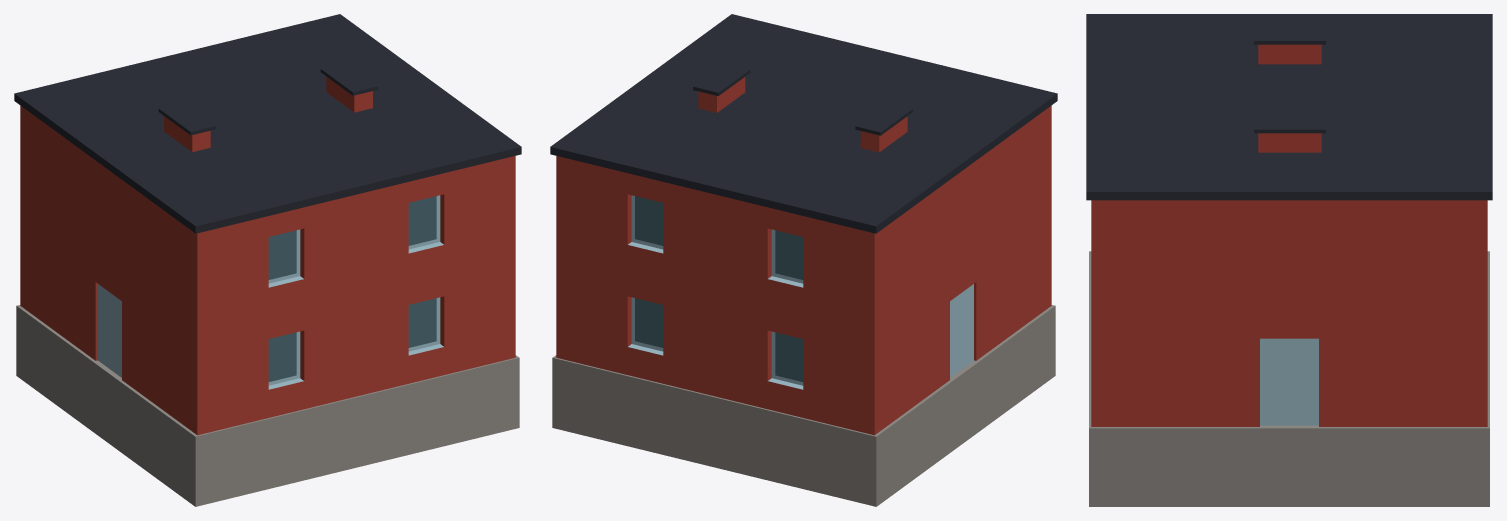
Rendered from house_bata_01.fbx.
The picture shows the model from 3 angles, left to right: view 1: azimuth 30°, elevation 25°; view 2: azimuth 150°, elevation 25°; view 3: azimuth 270°, elevation 25°; orthographic projection. The views are drawn at different scales.
Parts seen in each view (by area): view 1: bata_house_01; view 2: bata_house_01; view 3: bata_house_01.
Part boxes in pixels (x1,y1,x2,y2): bata_house_01: (14, 14, 521, 506); bata_house_01: (550, 14, 1057, 506); bata_house_01: (1086, 14, 1492, 506).
Size of the model in its own units: 1003 by 894 by 967.
